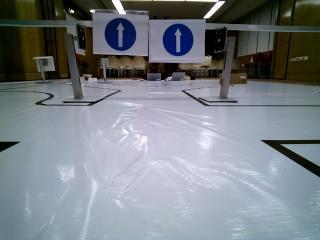straight: (94, 10, 146, 56), (152, 20, 203, 63)
